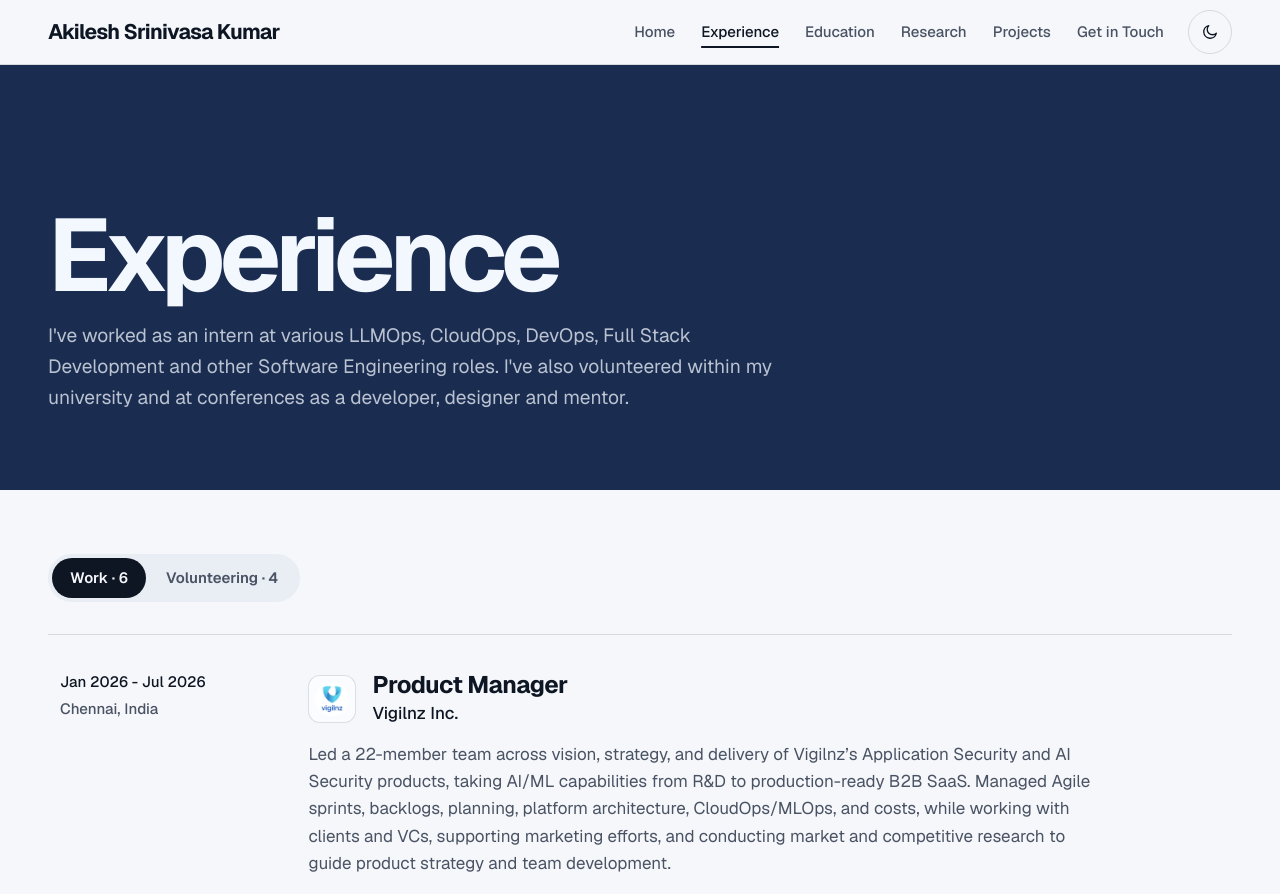
Test: interactions › switches timeline tabs
Step 1. Click the button "Volunteering · 4" → [222, 578], box [148, 558, 296, 598]
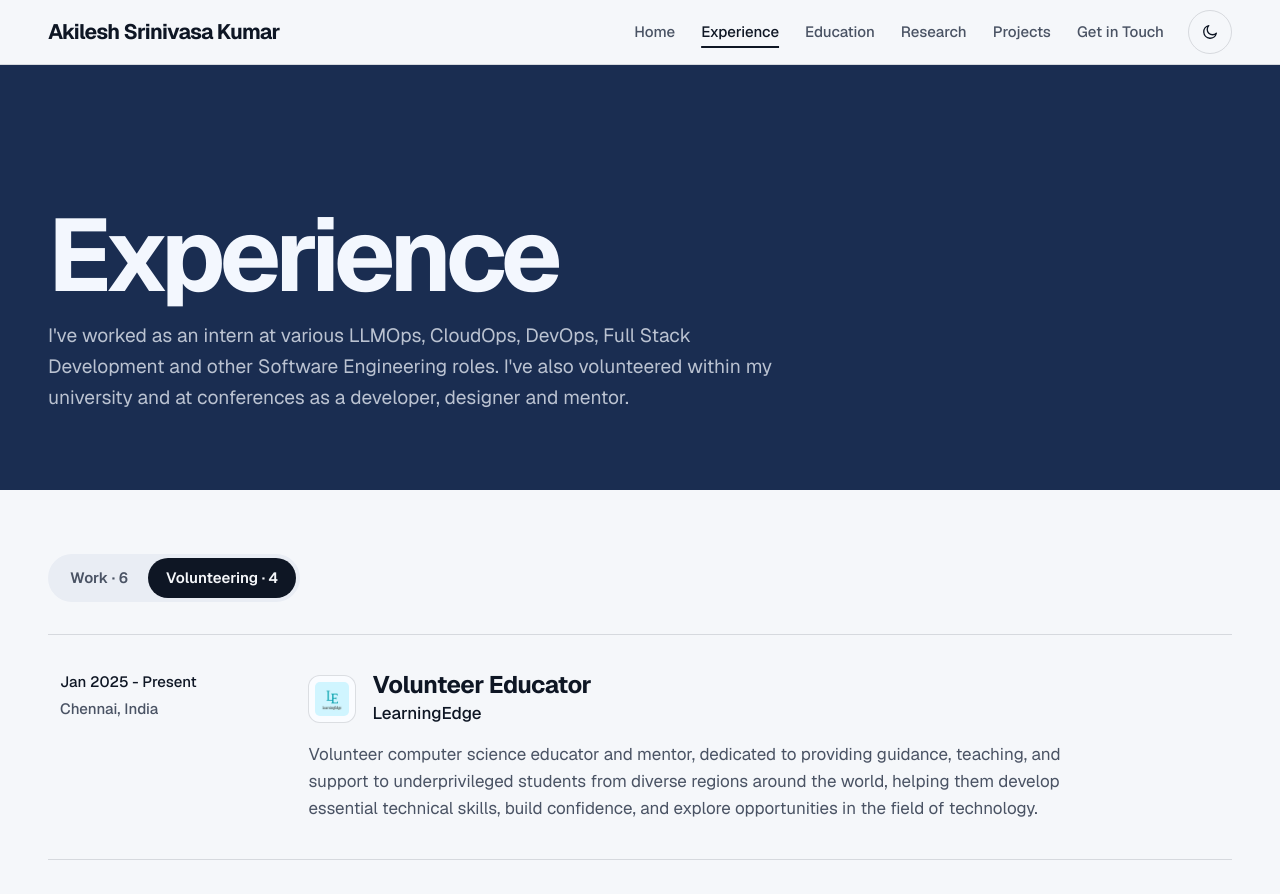
Expected: the heading "Volunteer Educator" is shown, [372, 671, 591, 700]
